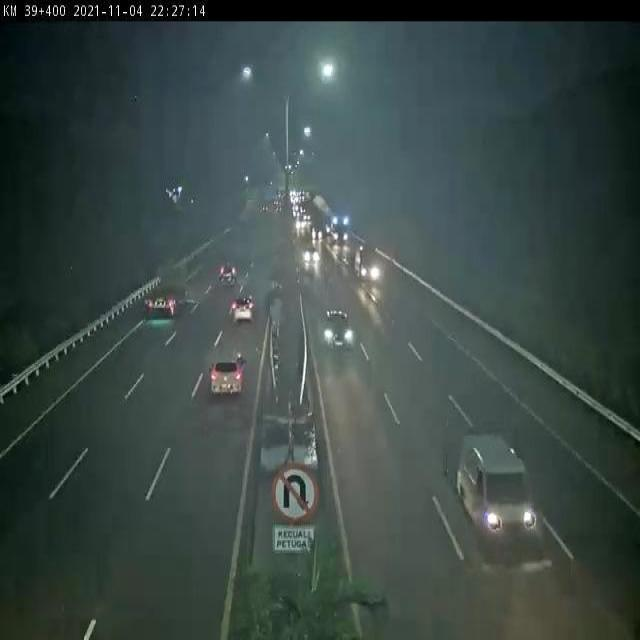Car: (204, 349, 254, 411), (140, 276, 191, 332), (314, 302, 357, 352), (352, 238, 387, 291), (223, 286, 258, 324), (216, 259, 245, 295), (299, 242, 326, 276)
Van: (448, 427, 540, 563)
